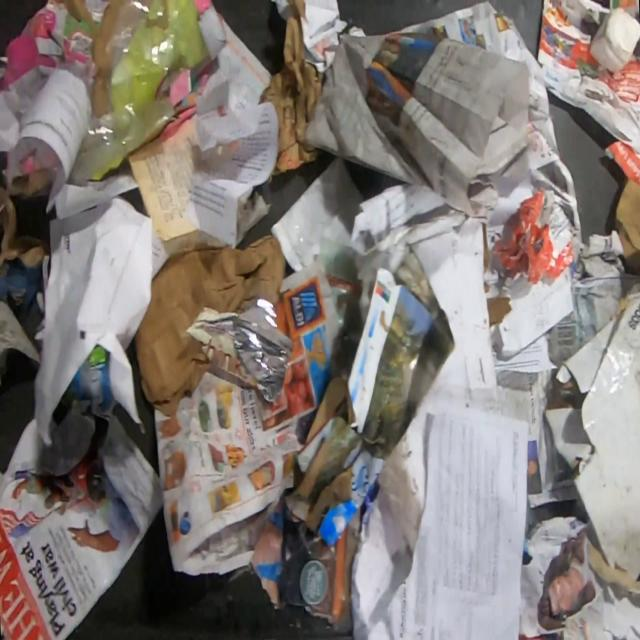cardboard: (544, 287, 640, 595), (536, 0, 640, 183), (284, 379, 386, 548), (277, 510, 361, 623), (0, 0, 97, 93), (614, 177, 640, 279), (198, 3, 229, 60)
soft_plastic: (70, 0, 211, 179), (184, 296, 294, 404)
